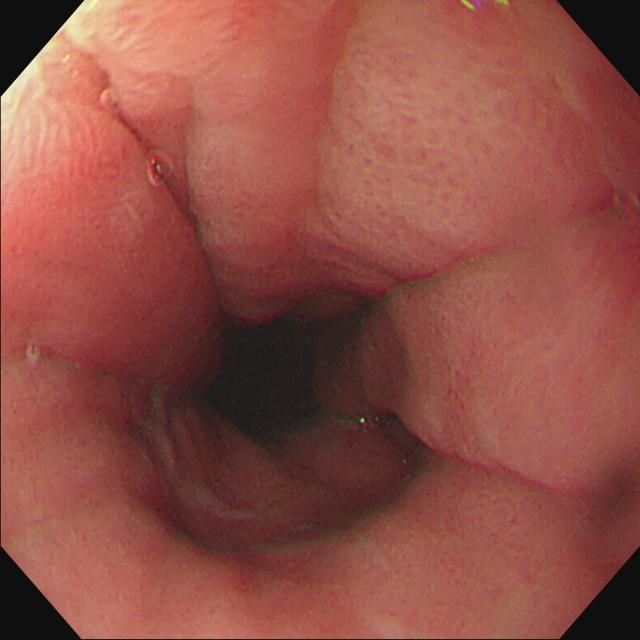A: (324, 42, 492, 236), (422, 301, 484, 458)
E: (207, 328, 321, 441)
